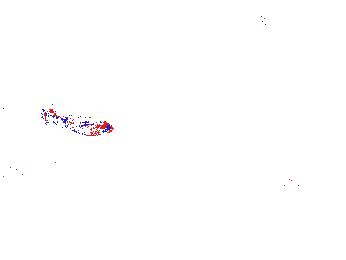X-ray fish: (1, 159, 58, 194)
red belly glassfish: (64, 117, 113, 138), (38, 104, 67, 126)
